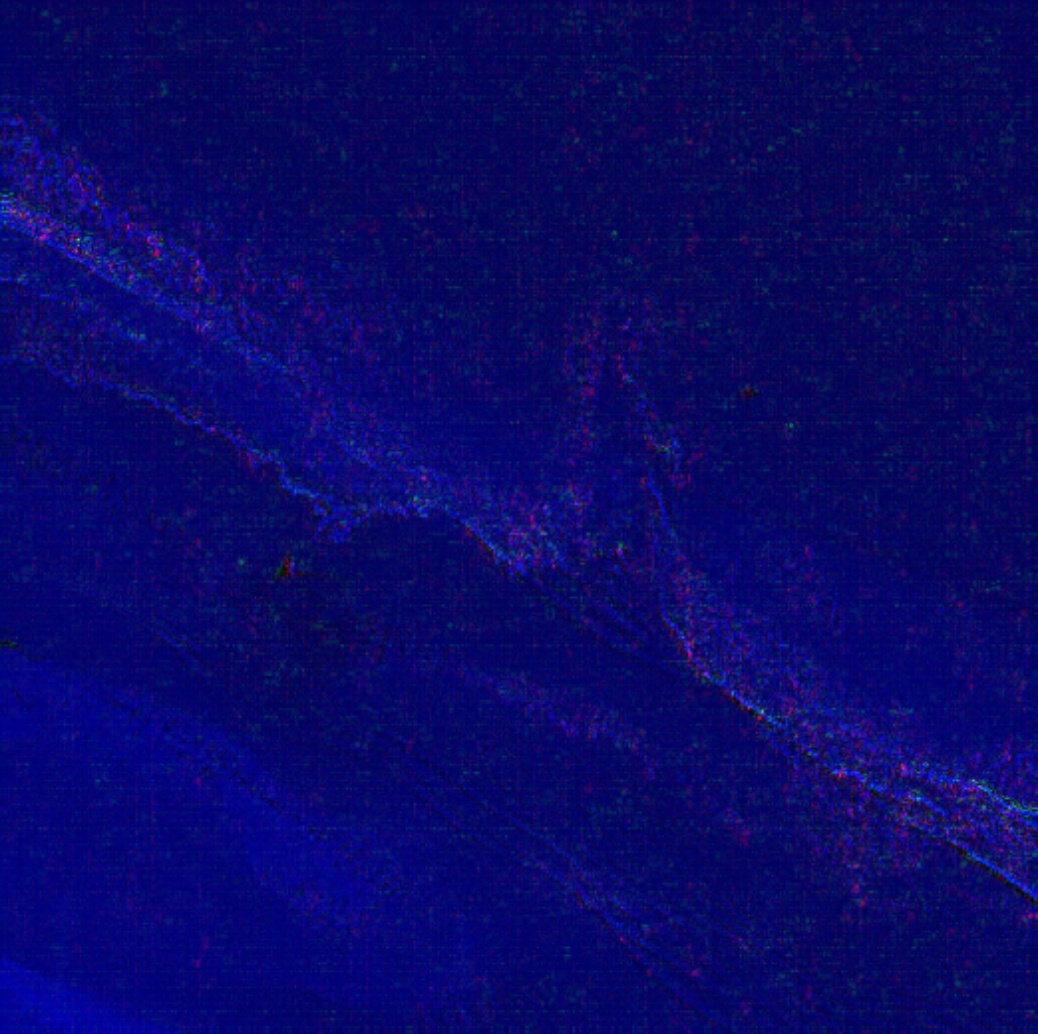rip_current: (504, 236, 741, 544)
